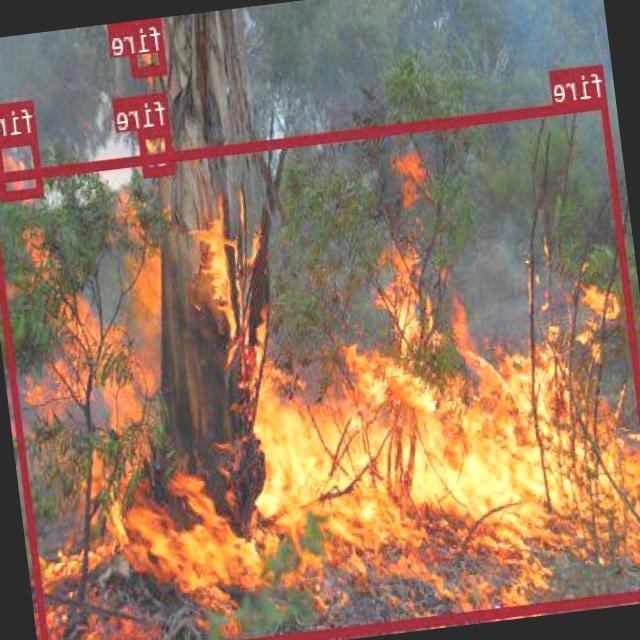fire: (0, 95, 640, 640), (0, 132, 44, 200), (128, 17, 169, 74), (140, 124, 176, 174)
